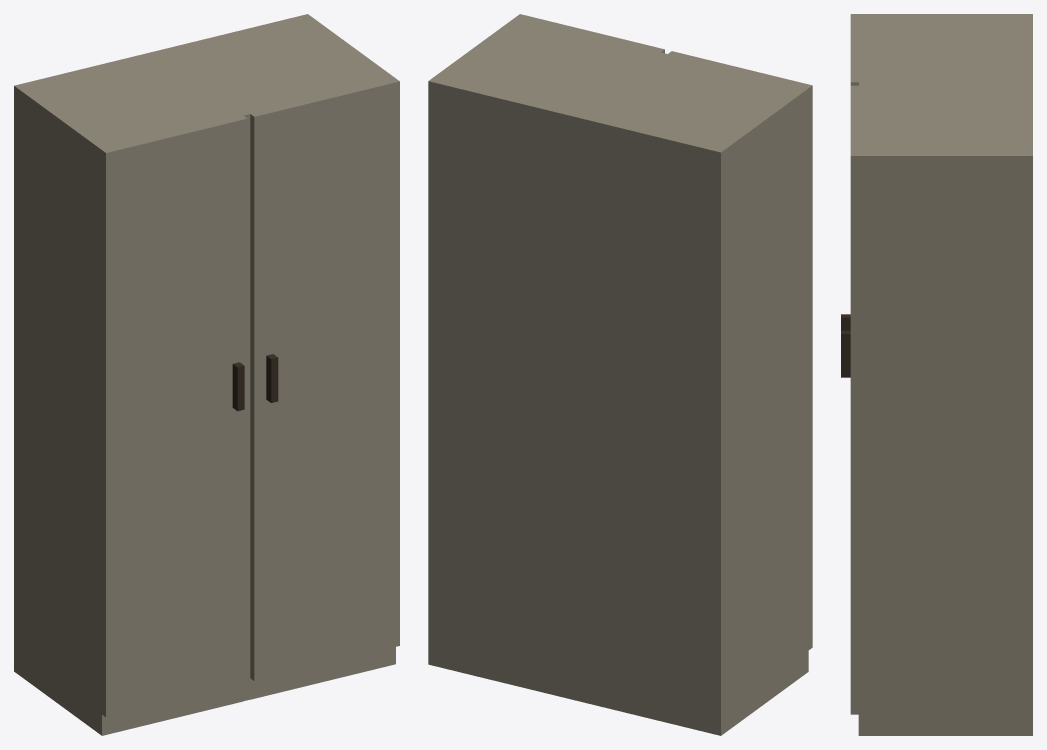
The model's file is klädskåp.glb.
3 renders of one model, left to right at view 1: azimuth 30°, elevation 25°; view 2: azimuth 150°, elevation 25°; view 3: azimuth 270°, elevation 25°, orthographic.
Visible parts, largest first — view 1: Cube; view 2: Cube; view 3: Cube, Cube.001.
Part boxes in pixels (box(x1,y1,x2,y2)): Cube: box(14, 14, 399, 735); Cube: box(428, 14, 812, 735); Cube: box(850, 14, 1032, 735); Cube.001: box(841, 330, 850, 377).
Bounding box in the file's own units: 1.05 × 2 × 0.6.
